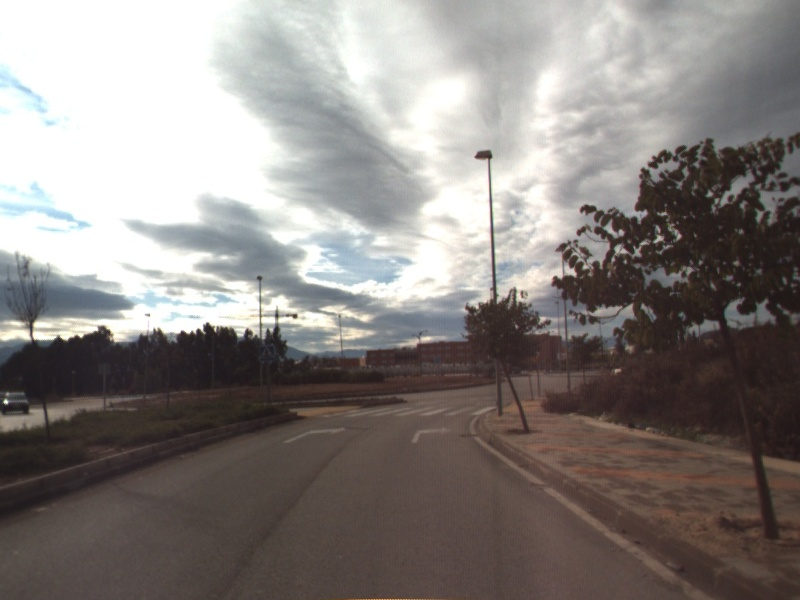RIGHT: (281, 424, 348, 445), (409, 424, 454, 445)
